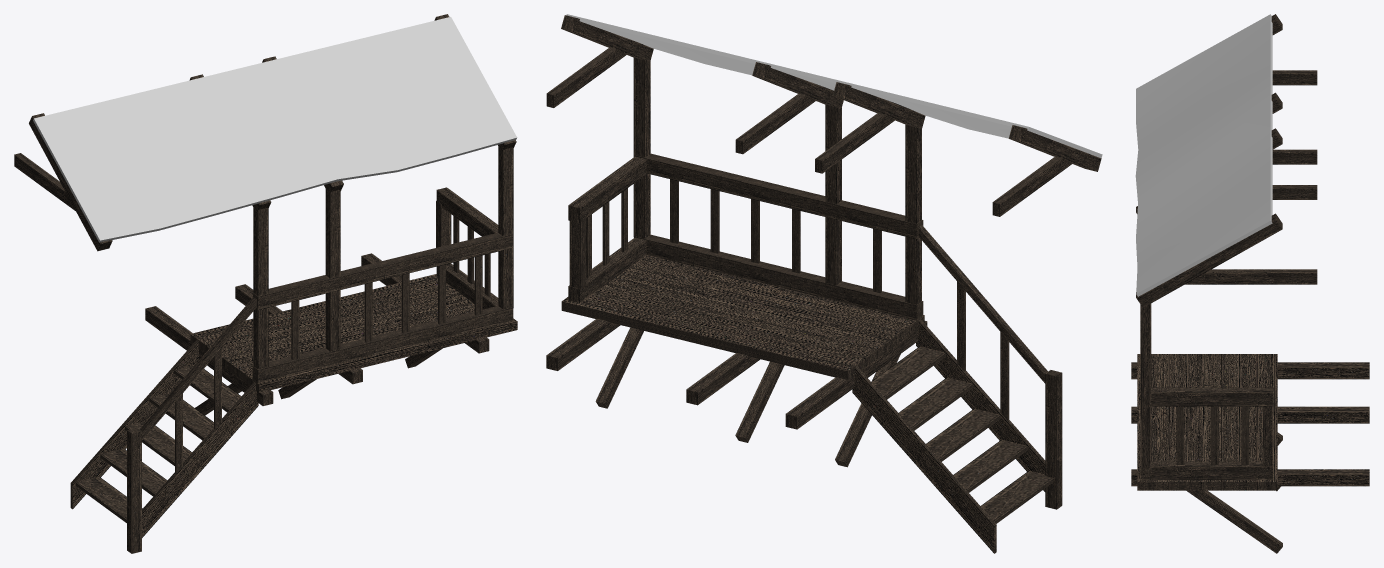
Rendered from stairs balcony.fbx.
The picture shows the model from 3 angles, left to right: view 1: azimuth 30°, elevation 25°; view 2: azimuth 150°, elevation 25°; view 3: azimuth 270°, elevation 25°; orthographic projection. The views are drawn at different scales.
Visible parts, largest first — view 1: Mesh Object; view 2: Mesh Object; view 3: Mesh Object.
Part boxes in pixels (bbox=[...]): Mesh Object: bbox=[14, 14, 517, 553]; Mesh Object: bbox=[546, 14, 1102, 553]; Mesh Object: bbox=[1131, 14, 1369, 553].
Size of the model in its own units: 6.85 by 6.23 by 3.33.
